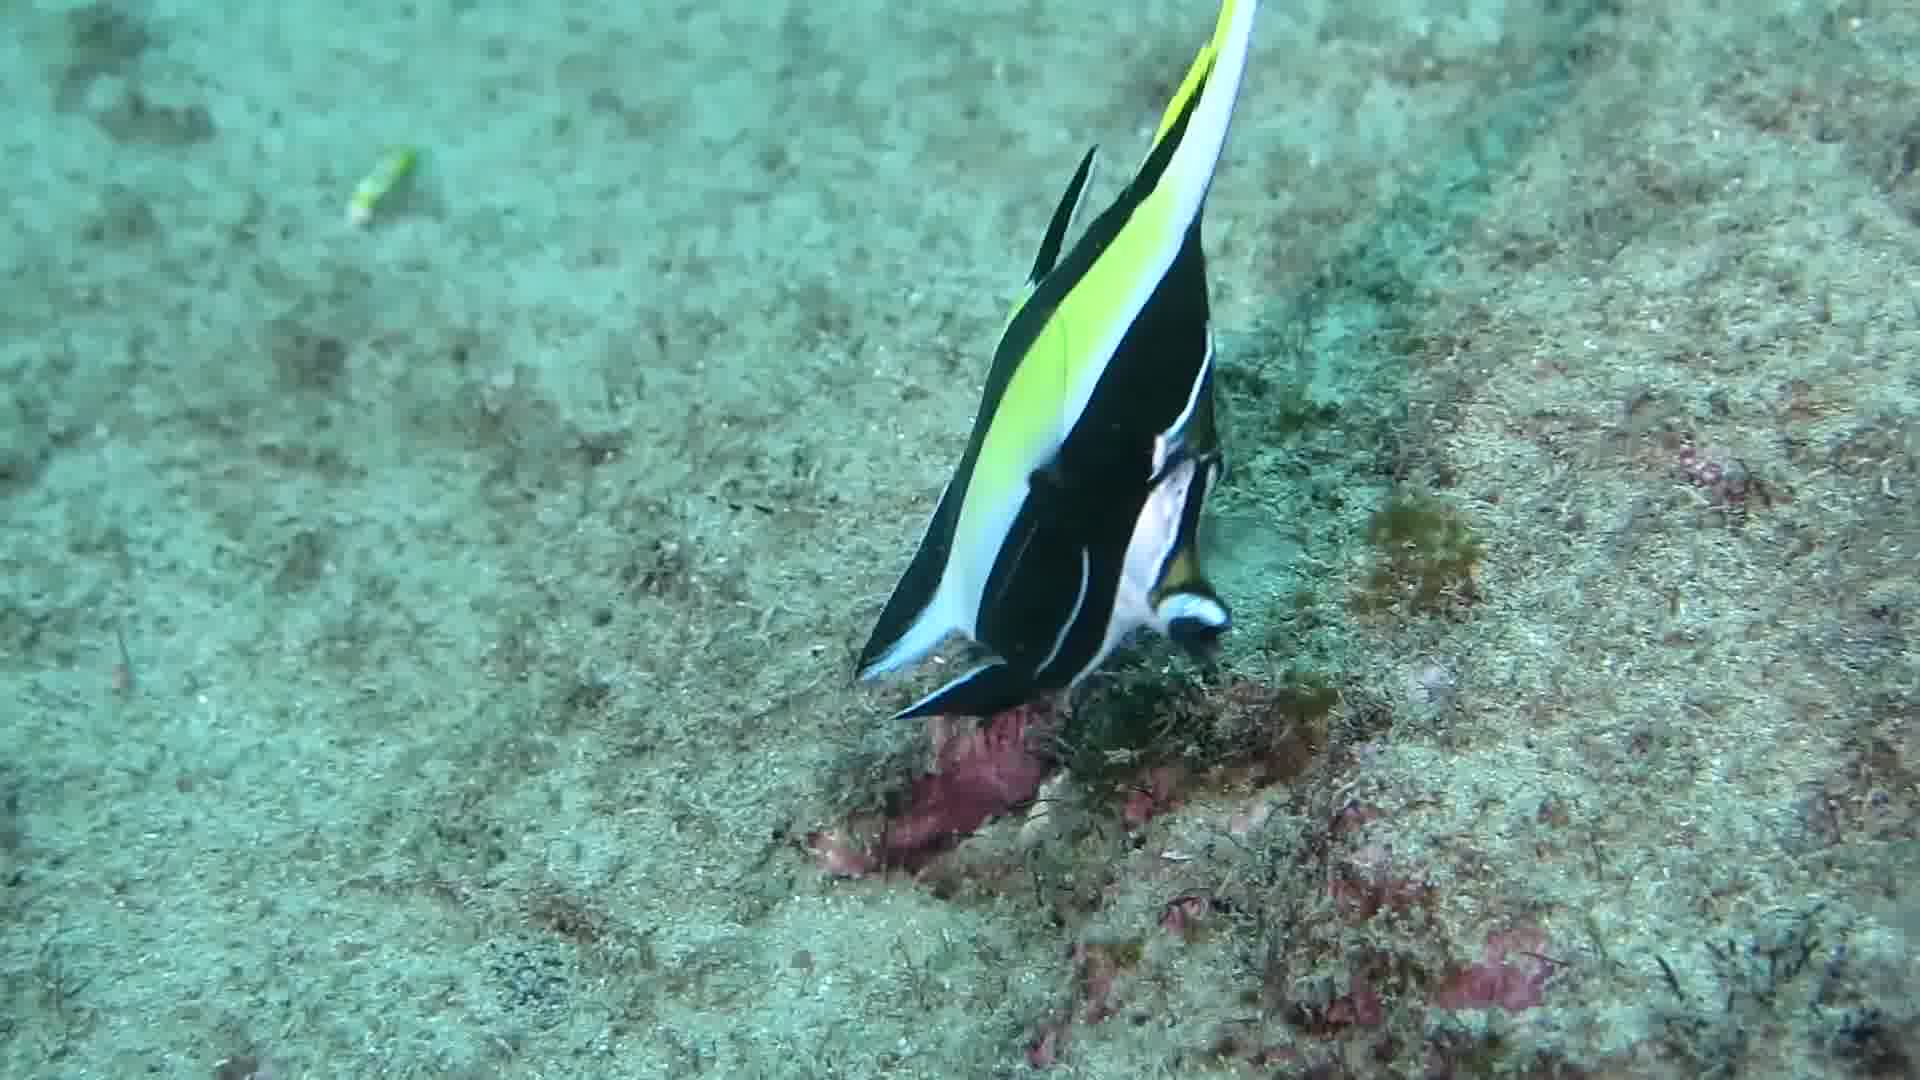Zanclus cornutus: (760, 124, 1415, 760)
